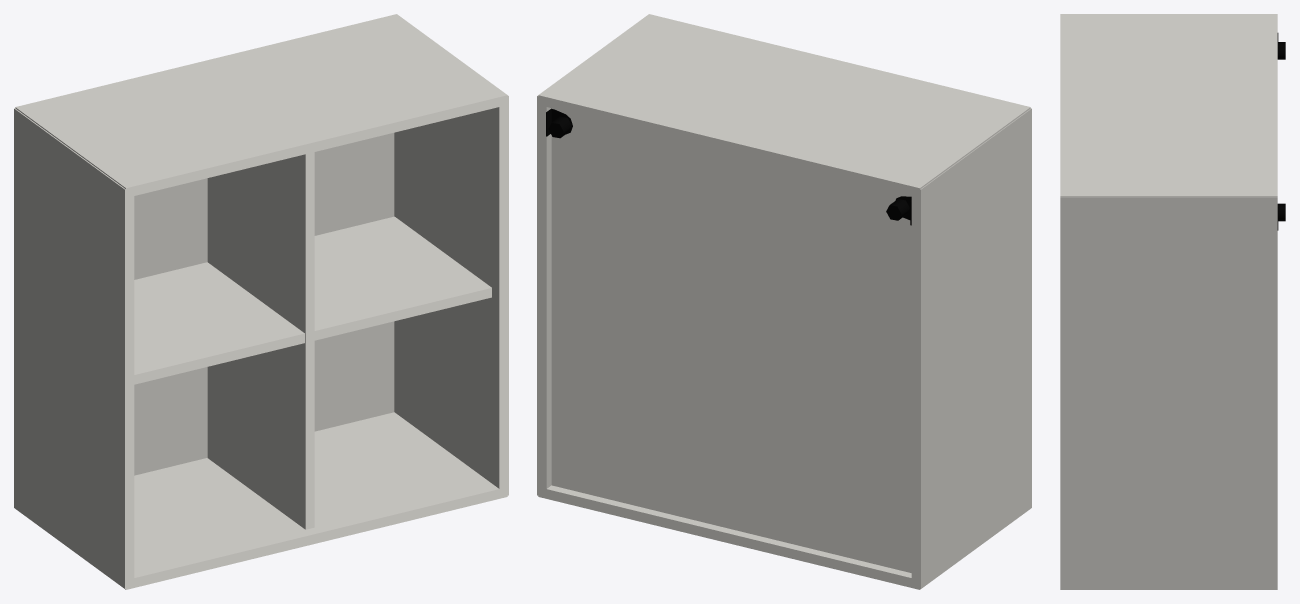
Rendered from 13 - EKET Wall-mounted shelving unit w 4 comp - white 70x35x70 cm.glb.
3 renders of one model, left to right at view 1: azimuth 30°, elevation 25°; view 2: azimuth 150°, elevation 25°; view 3: azimuth 270°, elevation 25°, orthographic. The views are drawn at different scales.
Parts seen in each view (by area): view 1: Mesh_0; view 2: Mesh_0; view 3: Mesh_0.
Boxes of the visible parts, x1,y1,x2,y2 form: Mesh_0: (14, 14, 508, 589); Mesh_0: (537, 14, 1031, 589); Mesh_0: (1060, 14, 1285, 589).
Size of the model in its own units: 0.7 by 0.7 by 0.3631.
7 materials, 3 textured.
